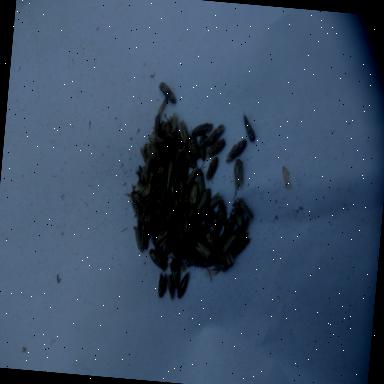pbw: (228, 198, 247, 232), (230, 158, 245, 201), (225, 136, 248, 164), (231, 228, 252, 258), (240, 110, 258, 142), (138, 141, 157, 169), (222, 227, 241, 255), (234, 196, 256, 220), (156, 81, 178, 104), (206, 122, 225, 148), (214, 202, 229, 234), (220, 212, 236, 242), (176, 118, 192, 148), (196, 186, 212, 216), (185, 132, 201, 161), (158, 119, 178, 142), (153, 243, 171, 268), (141, 192, 155, 224), (194, 242, 216, 262), (164, 229, 180, 256), (206, 138, 225, 160), (194, 168, 207, 200), (158, 222, 174, 248), (180, 146, 198, 169), (164, 160, 174, 201), (170, 247, 186, 272), (129, 190, 147, 212), (152, 224, 170, 246), (176, 271, 190, 299), (190, 122, 214, 138), (132, 226, 146, 252), (194, 196, 207, 224), (152, 172, 167, 196), (191, 216, 207, 238), (204, 156, 218, 181), (180, 222, 192, 250), (206, 192, 224, 210), (168, 259, 182, 282), (203, 208, 217, 231), (158, 184, 168, 216), (150, 216, 166, 236), (172, 165, 182, 197), (213, 235, 224, 264), (166, 274, 178, 300), (176, 218, 188, 244), (197, 134, 208, 162), (165, 148, 176, 176), (212, 250, 231, 266), (146, 168, 156, 198), (154, 136, 175, 150), (191, 255, 213, 268), (188, 180, 198, 208), (140, 222, 150, 250), (210, 222, 220, 250), (165, 195, 174, 226), (152, 112, 162, 138), (180, 158, 190, 184), (170, 112, 180, 138), (158, 272, 168, 298), (181, 188, 190, 216), (145, 214, 154, 240), (174, 131, 182, 156), (172, 202, 182, 222), (160, 146, 169, 168), (203, 228, 212, 248), (174, 148, 182, 170), (171, 270, 180, 289), (211, 261, 228, 271), (154, 165, 167, 178), (172, 193, 180, 213), (188, 202, 196, 222), (190, 242, 198, 257)
